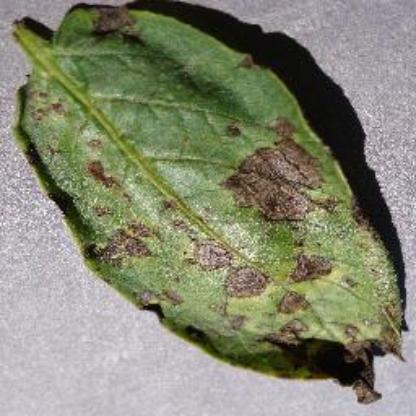Early-Blight: (7, 4, 410, 402)
